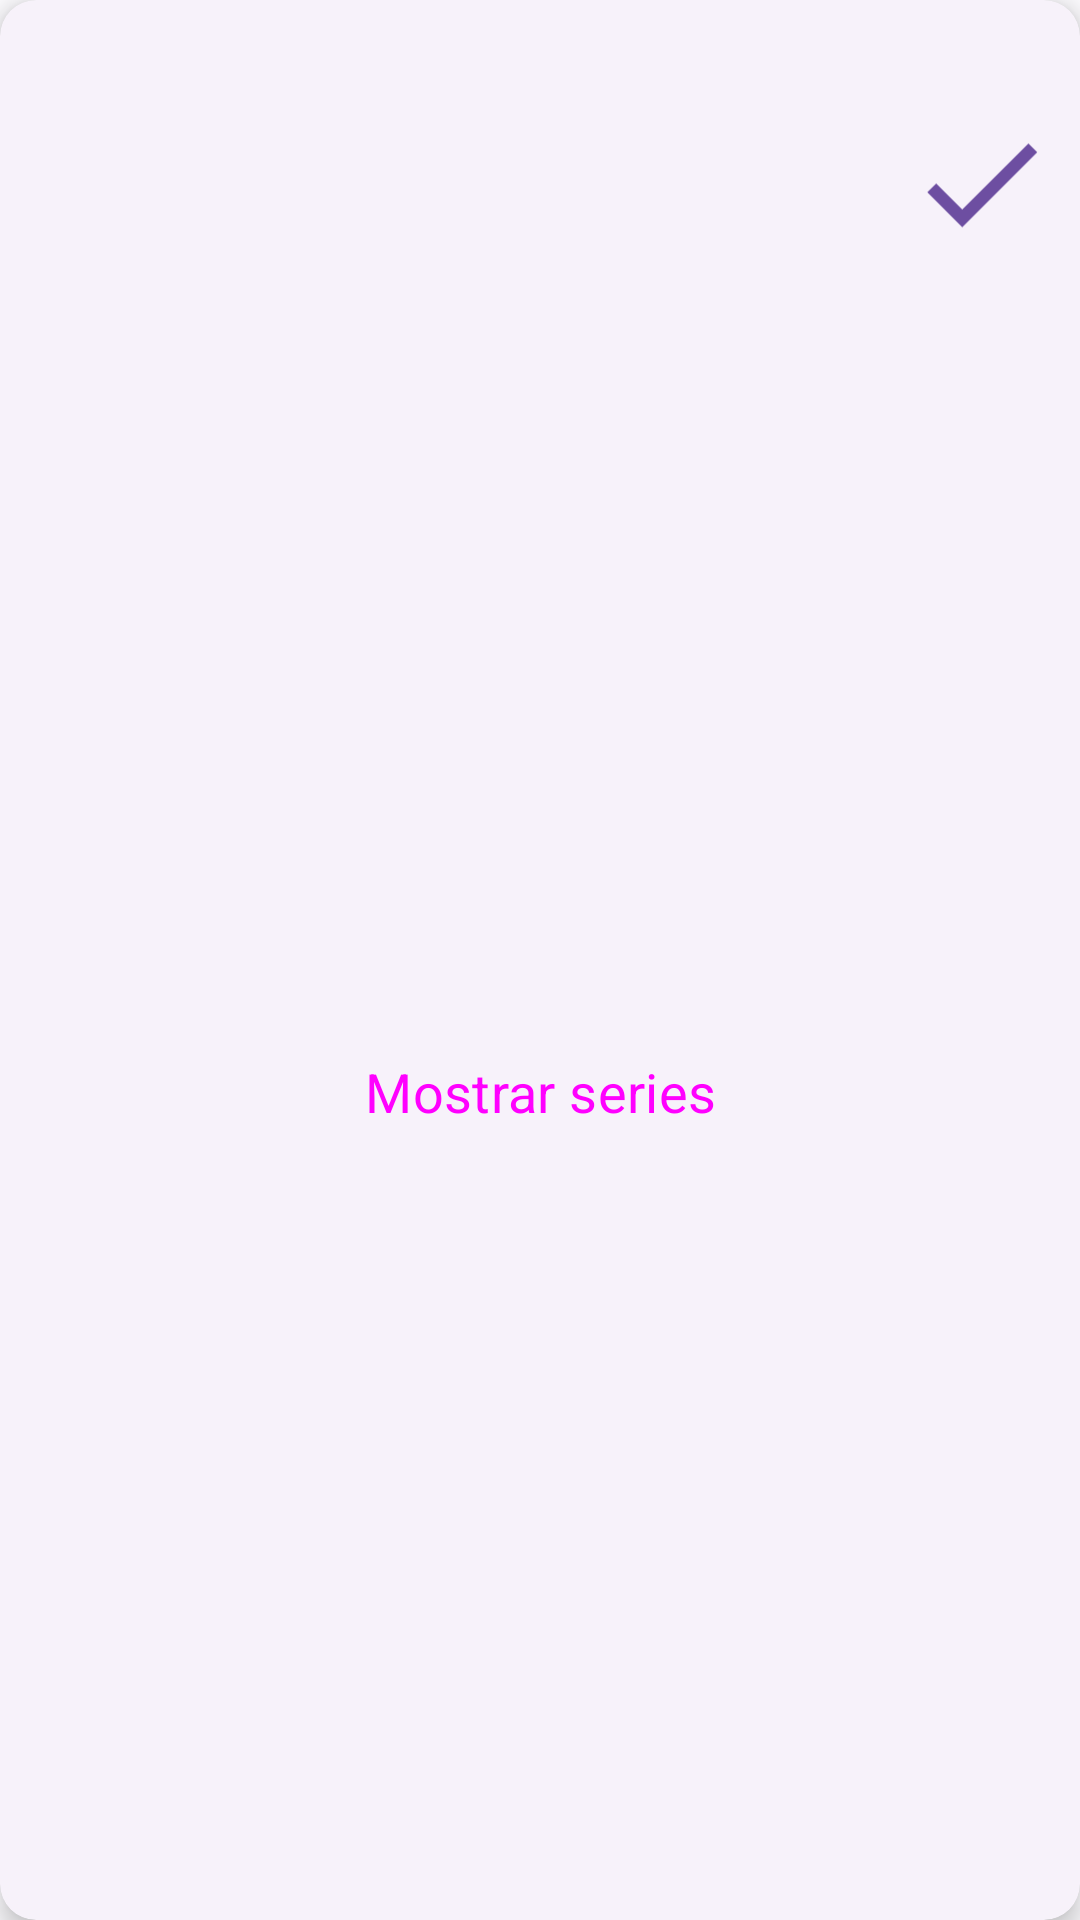

Screen size 1080 x 1920. Icon name, then its box in pixels as {"left": x1, "top": y1, "right": x2, "bottom": y2}:
checked item: {"left": 927, "top": 143, "right": 1037, "bottom": 228}
